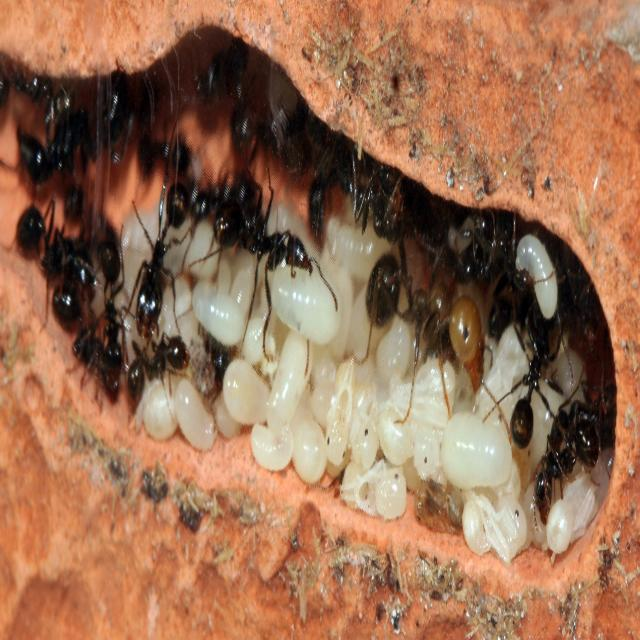ants: (207, 183, 334, 351), (368, 248, 497, 412), (127, 172, 195, 345), (18, 195, 100, 324), (524, 410, 599, 531), (500, 297, 558, 450)
